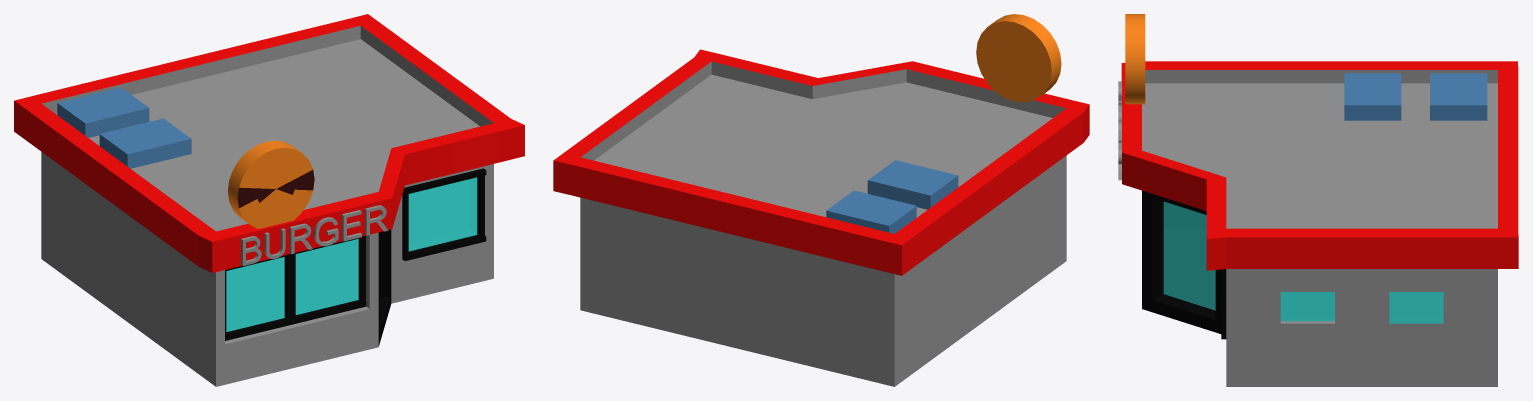
The model's file is BURGER.fbx.
3 views of the same model, side by side, from view 1: azimuth 30°, elevation 25°; view 2: azimuth 150°, elevation 25°; view 3: azimuth 270°, elevation 25° (orthographic). The views are drawn at different scales.
Visible parts, largest first — view 1: Box217, Plane228, Cone004, Box222, Plane229, Box228, Box227, Text004; view 2: Box217, Cone004, Box228, Box227; view 3: Box217, Box227, Box228, Cone004, Plane230, Plane231, Box222, Text004.
Boxes of the visible parts, x1,y1,x2,y2 form: Box217: [14, 14, 524, 386]; Plane228: [226, 239, 358, 331]; Cone004: [228, 140, 314, 228]; Box222: [225, 168, 486, 340]; Plane229: [408, 177, 477, 251]; Box228: [99, 118, 191, 168]; Box227: [57, 87, 149, 137]; Text004: [241, 205, 388, 265]; Box217: [553, 49, 1089, 386]; Cone004: [976, 14, 1061, 102]; Box228: [867, 160, 958, 209]; Box227: [826, 190, 916, 233]; Box217: [1121, 61, 1518, 386]; Box227: [1430, 73, 1487, 120]; Box228: [1344, 73, 1401, 120]; Cone004: [1125, 14, 1145, 104]; Plane230: [1389, 292, 1443, 323]; Plane231: [1280, 292, 1334, 321]; Box222: [1221, 269, 1226, 339]; Text004: [1118, 81, 1121, 180].
Size of the model in its own units: 192 by 119 by 183.
